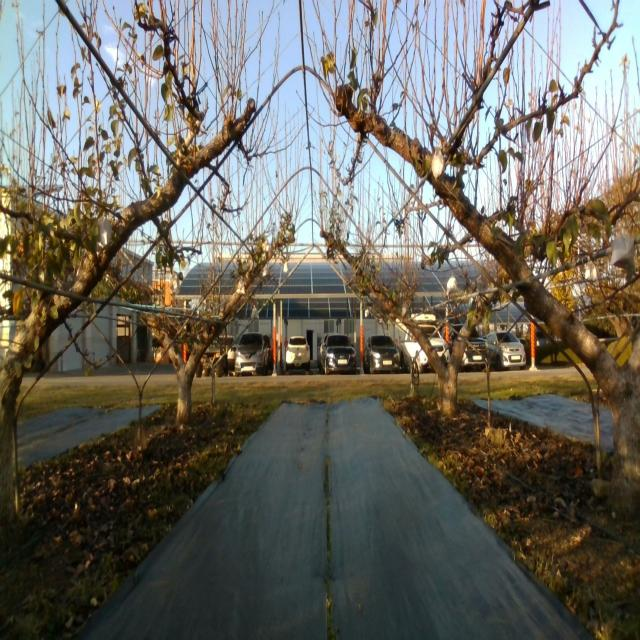pearbags: (610, 232, 635, 273), (431, 150, 444, 180), (100, 219, 112, 247), (446, 276, 458, 297)
